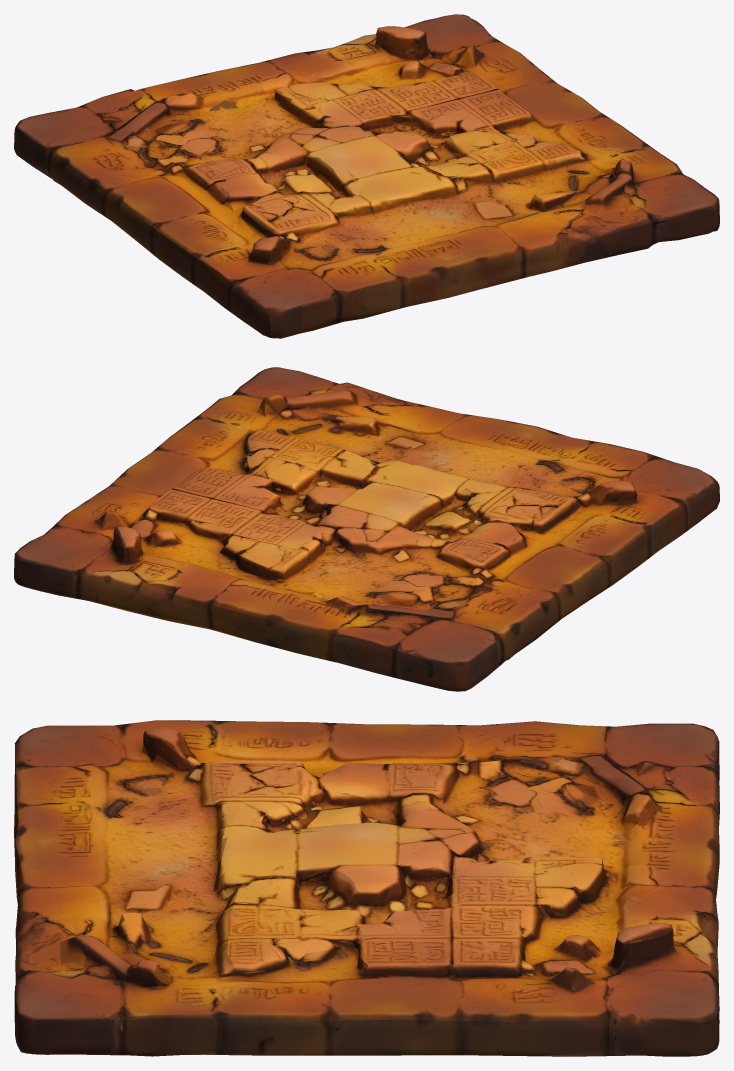
The model's file is Meshy_AI_piramit_zemin_0103185553_texture.fbx.
3 views of the same model, one above another, from view 1: azimuth 30°, elevation 25°; view 2: azimuth 150°, elevation 25°; view 3: azimuth 270°, elevation 25° (orthographic). The views are drawn at different scales.
Parts seen in each view (by area): view 1: Mesh0; view 2: Mesh0; view 3: Mesh0.
Part boxes in pixels (box(x1,y1,x2,y2)): Mesh0: box(14, 14, 719, 338); Mesh0: box(14, 367, 719, 691); Mesh0: box(14, 720, 719, 1056).
Size of the model in its own units: 2717 by 300 by 2716.
Materials: 1 (1 with a texture image).
